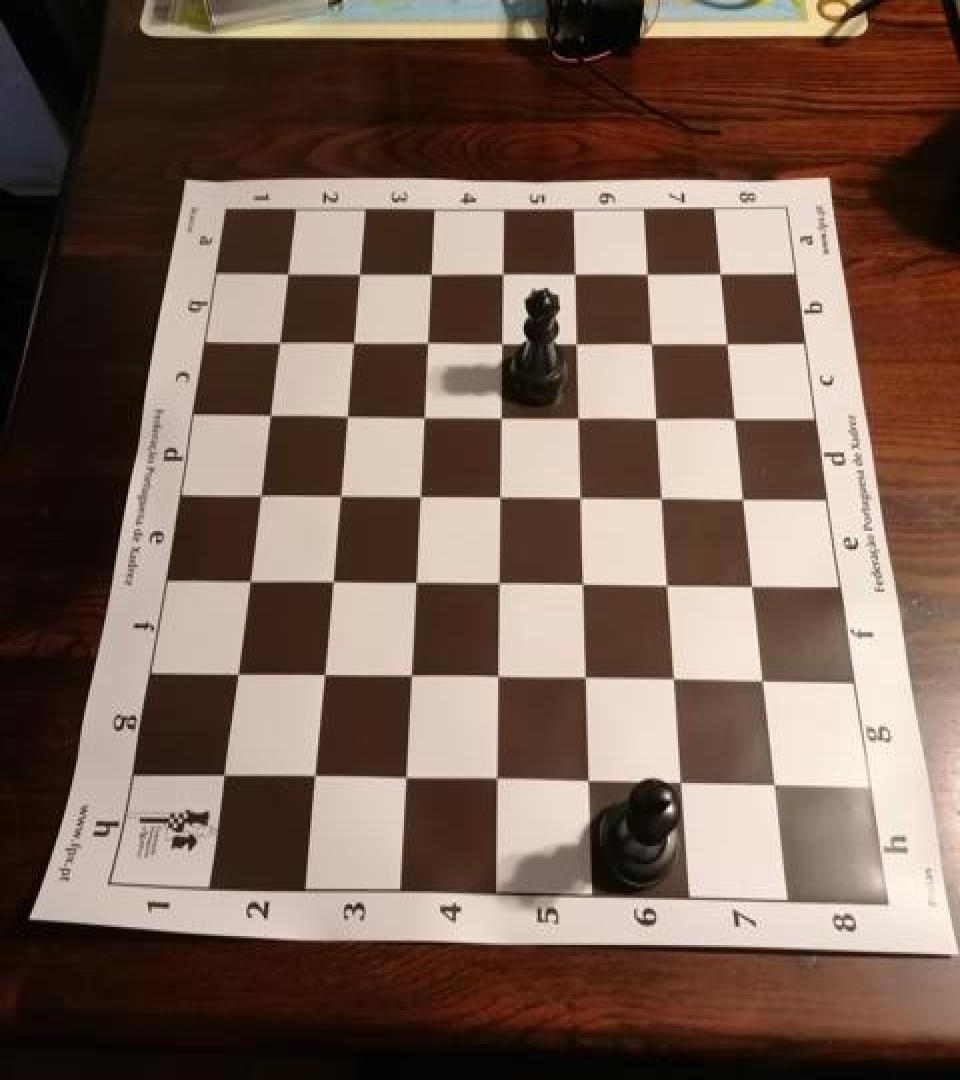xcorner: (658, 661, 690, 698), (305, 653, 337, 690), (218, 652, 250, 689), (760, 768, 792, 805), (479, 761, 511, 798), (704, 256, 736, 292), (631, 256, 663, 292), (558, 254, 590, 290), (486, 254, 518, 290), (414, 254, 446, 290), (342, 254, 374, 290), (272, 254, 304, 290), (711, 324, 743, 360), (635, 324, 667, 360), (560, 323, 592, 359), (485, 323, 517, 359), (410, 322, 442, 358), (336, 322, 368, 358), (263, 322, 295, 358), (720, 398, 752, 434), (640, 398, 672, 434), (562, 397, 594, 433), (484, 396, 516, 432), (406, 396, 438, 432), (329, 395, 361, 431), (253, 394, 285, 430), (728, 479, 760, 515), (646, 478, 678, 514), (564, 477, 596, 513), (483, 476, 515, 512), (402, 475, 434, 511), (322, 474, 354, 510), (242, 474, 274, 510), (738, 567, 770, 603), (652, 566, 684, 602), (566, 565, 598, 601), (482, 562, 514, 598), (397, 562, 429, 598), (314, 560, 346, 596), (231, 559, 263, 595), (749, 662, 781, 698), (569, 659, 601, 695), (480, 658, 512, 694), (392, 656, 424, 692), (666, 766, 698, 802), (572, 764, 604, 800), (387, 760, 419, 796), (295, 757, 327, 793), (205, 754, 237, 790)
